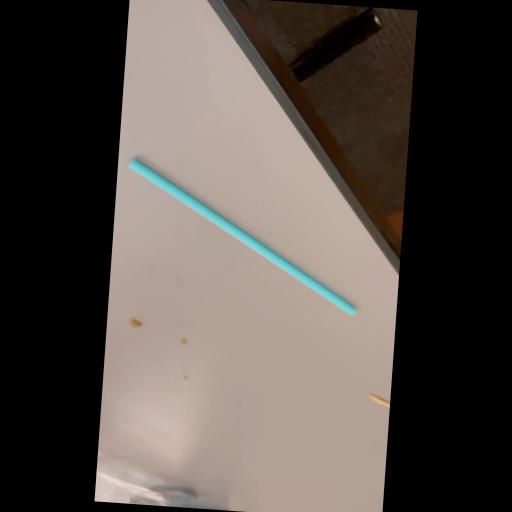straw: (108, 149, 370, 319)
